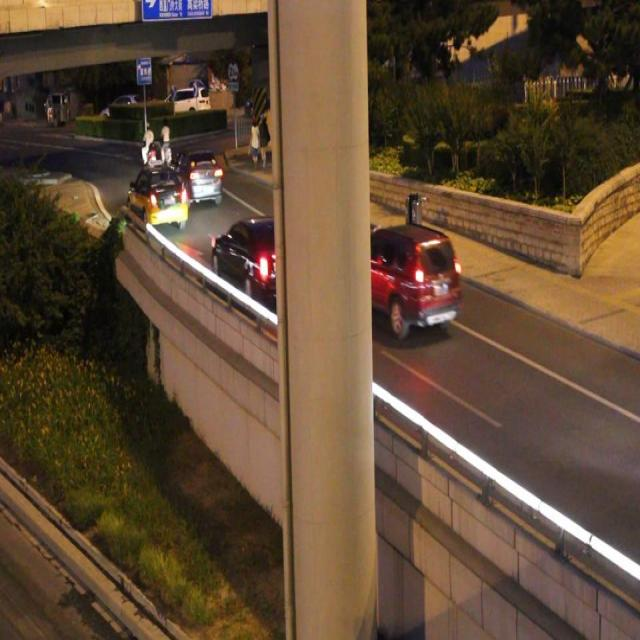car: (336, 222, 461, 337), (210, 214, 304, 305), (126, 160, 189, 229), (180, 148, 223, 205)
